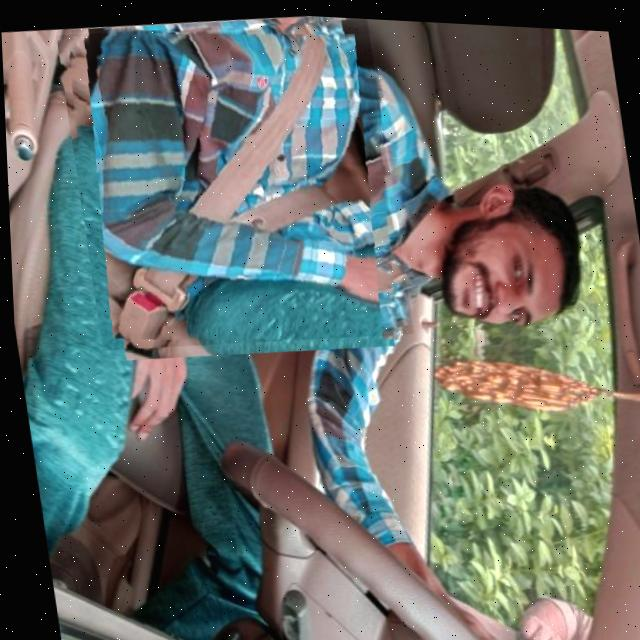seatbelt: (53, 2, 410, 361)
